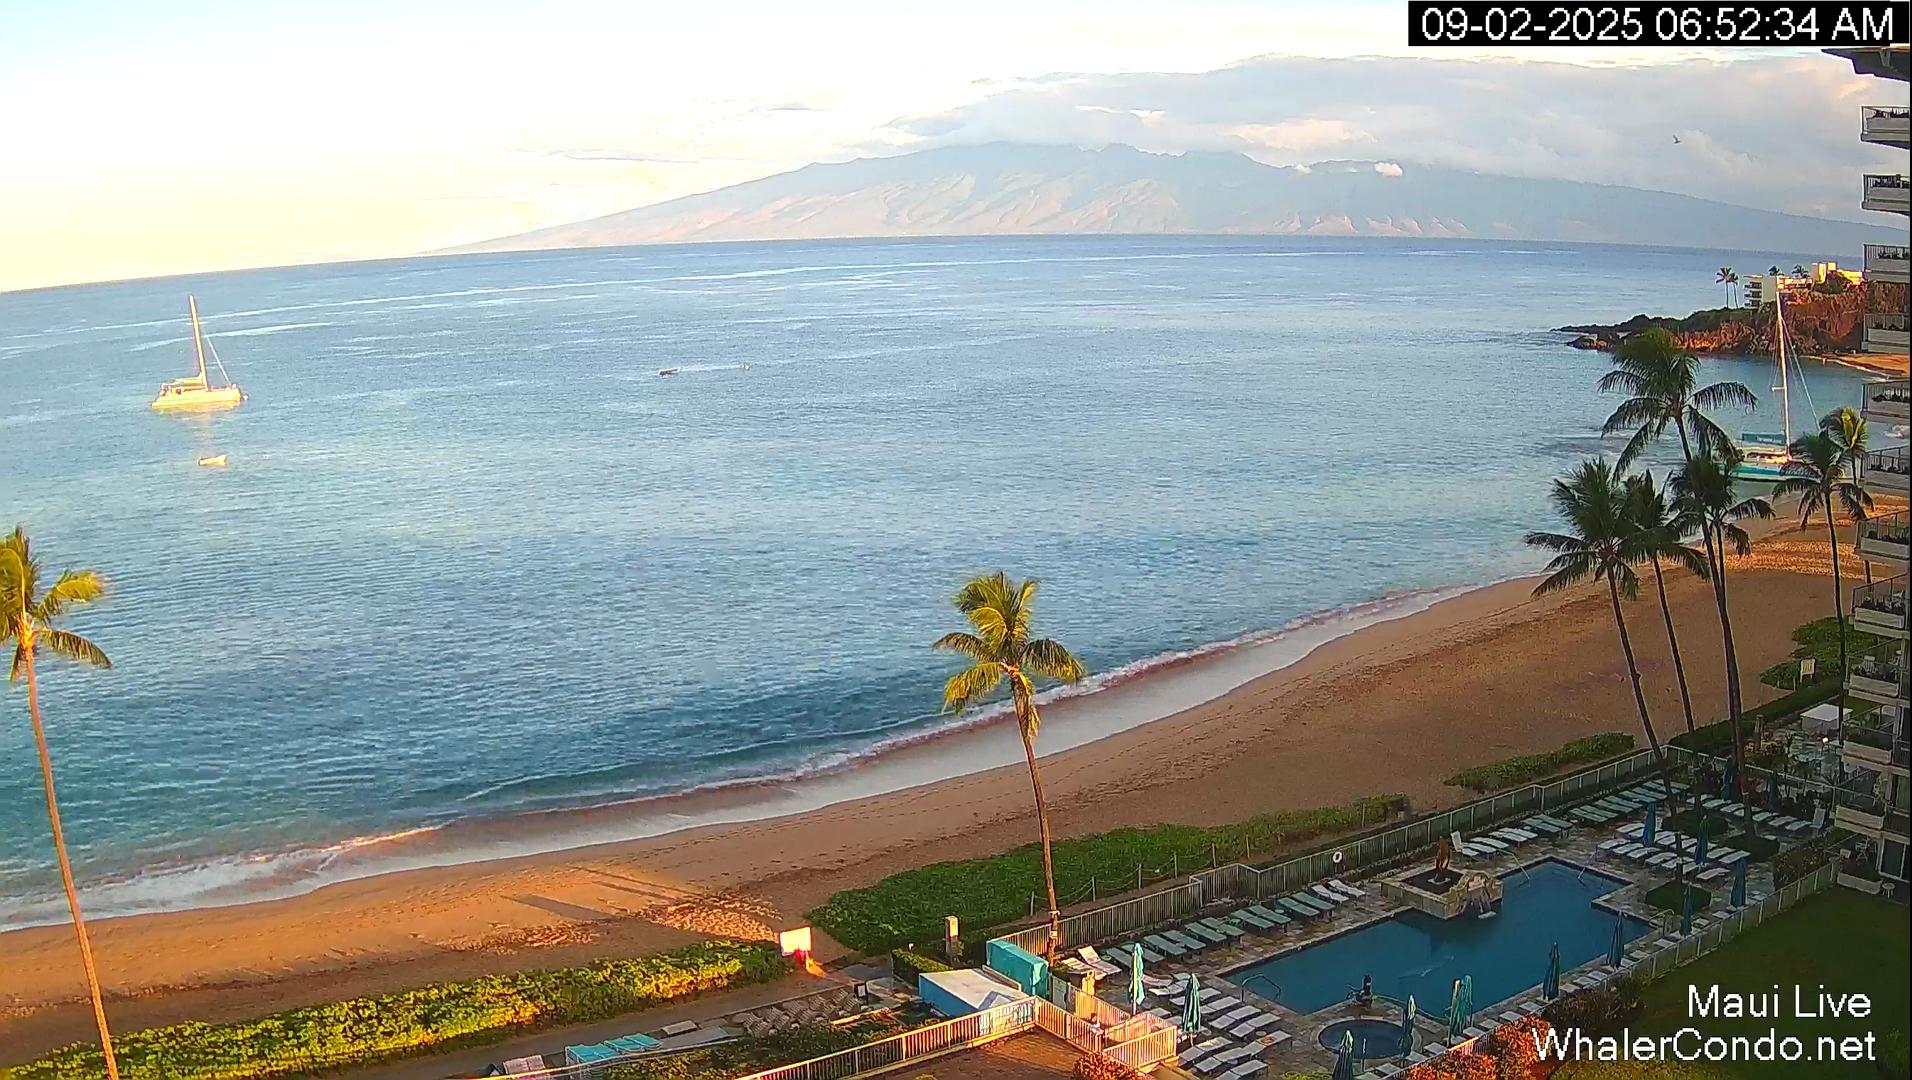boat: (1720, 289, 1840, 484), (151, 294, 244, 413), (198, 452, 227, 468), (658, 367, 682, 376)
